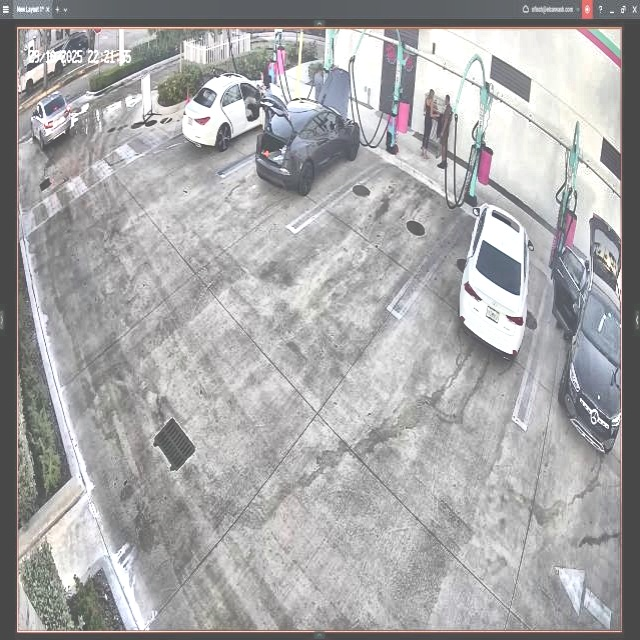Car: (257, 70, 359, 200), (459, 198, 533, 358), (184, 72, 284, 151)
